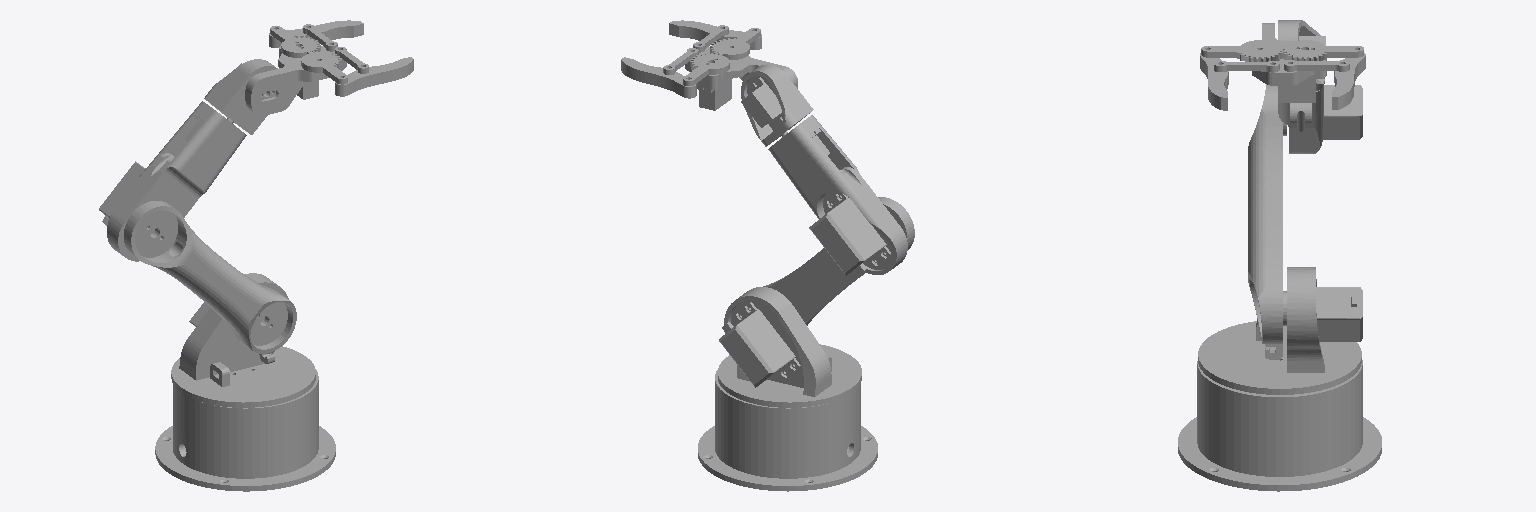
URDF robot description (robot_arm):
<?xml version="1.0" ?>
<!-- =================================================================================== -->
<!-- |    This document was autogenerated by xacro from robot_arm.xacro                | -->
<!-- |    EDITING THIS FILE BY HAND IS NOT RECOMMENDED                                 | -->
<!-- =================================================================================== -->
<robot name="robot_arm">
  <material name="silver">
    <color rgba="0.700 0.700 0.700 1.000"/>
  </material>
  <transmission name="pitch_tran">
    <type>transmission_interface/SimpleTransmission</type>
    <joint name="pitch">
      <hardwareInterface>hardware_interface/EffortJointInterface</hardwareInterface>
    </joint>
    <actuator name="pitch_actr">
      <hardwareInterface>hardware_interface/EffortJointInterface</hardwareInterface>
      <mechanicalReduction>1</mechanicalReduction>
    </actuator>
  </transmission>
  <transmission name="roll_tran">
    <type>transmission_interface/SimpleTransmission</type>
    <joint name="roll">
      <hardwareInterface>hardware_interface/EffortJointInterface</hardwareInterface>
    </joint>
    <actuator name="roll_actr">
      <hardwareInterface>hardware_interface/EffortJointInterface</hardwareInterface>
      <mechanicalReduction>1</mechanicalReduction>
    </actuator>
  </transmission>
  <transmission name="elbow_tran">
    <type>transmission_interface/SimpleTransmission</type>
    <joint name="elbow">
      <hardwareInterface>hardware_interface/EffortJointInterface</hardwareInterface>
    </joint>
    <actuator name="elbow_actr">
      <hardwareInterface>hardware_interface/EffortJointInterface</hardwareInterface>
      <mechanicalReduction>1</mechanicalReduction>
    </actuator>
  </transmission>
  <transmission name="shoulder_tran">
    <type>transmission_interface/SimpleTransmission</type>
    <joint name="shoulder">
      <hardwareInterface>hardware_interface/EffortJointInterface</hardwareInterface>
    </joint>
    <actuator name="shoulder_actr">
      <hardwareInterface>hardware_interface/EffortJointInterface</hardwareInterface>
      <mechanicalReduction>1</mechanicalReduction>
    </actuator>
  </transmission>
  <transmission name="base_tran">
    <type>transmission_interface/SimpleTransmission</type>
    <joint name="base">
      <hardwareInterface>hardware_interface/EffortJointInterface</hardwareInterface>
    </joint>
    <actuator name="base_actr">
      <hardwareInterface>hardware_interface/EffortJointInterface</hardwareInterface>
      <mechanicalReduction>1</mechanicalReduction>
    </actuator>
  </transmission>
  <transmission name="finger_gear_left_tran">
    <type>transmission_interface/SimpleTransmission</type>
    <joint name="finger_gear_left">
      <hardwareInterface>hardware_interface/EffortJointInterface</hardwareInterface>
    </joint>
    <actuator name="finger_gear_left_actr">
      <hardwareInterface>hardware_interface/EffortJointInterface</hardwareInterface>
      <mechanicalReduction>1</mechanicalReduction>
    </actuator>
  </transmission>
  <transmission name="finger_gear_right_tran">
    <type>transmission_interface/SimpleTransmission</type>
    <joint name="finger_gear_right">
      <hardwareInterface>hardware_interface/EffortJointInterface</hardwareInterface>
    </joint>
    <actuator name="finger_gear_right_actr">
      <hardwareInterface>hardware_interface/EffortJointInterface</hardwareInterface>
      <mechanicalReduction>1</mechanicalReduction>
    </actuator>
  </transmission>
  <transmission name="l2f_left_tran">
    <type>transmission_interface/SimpleTransmission</type>
    <joint name="l2f_left">
      <hardwareInterface>hardware_interface/EffortJointInterface</hardwareInterface>
    </joint>
    <actuator name="l2f_left_actr">
      <hardwareInterface>hardware_interface/EffortJointInterface</hardwareInterface>
      <mechanicalReduction>1</mechanicalReduction>
    </actuator>
  </transmission>
  <transmission name="f2g_left_tran">
    <type>transmission_interface/SimpleTransmission</type>
    <joint name="f2g_left">
      <hardwareInterface>hardware_interface/EffortJointInterface</hardwareInterface>
    </joint>
    <actuator name="f2g_left_actr">
      <hardwareInterface>hardware_interface/EffortJointInterface</hardwareInterface>
      <mechanicalReduction>1</mechanicalReduction>
    </actuator>
  </transmission>
  <transmission name="f2l_right_tran">
    <type>transmission_interface/SimpleTransmission</type>
    <joint name="f2l_right">
      <hardwareInterface>hardware_interface/EffortJointInterface</hardwareInterface>
    </joint>
    <actuator name="f2l_right_actr">
      <hardwareInterface>hardware_interface/EffortJointInterface</hardwareInterface>
      <mechanicalReduction>1</mechanicalReduction>
    </actuator>
  </transmission>
  <transmission name="f2g_right_tran">
    <type>transmission_interface/SimpleTransmission</type>
    <joint name="f2g_right">
      <hardwareInterface>hardware_interface/EffortJointInterface</hardwareInterface>
    </joint>
    <actuator name="f2g_right_actr">
      <hardwareInterface>hardware_interface/EffortJointInterface</hardwareInterface>
      <mechanicalReduction>1</mechanicalReduction>
    </actuator>
  </transmission>
  <gazebo>
    <plugin filename="libgazebo_ros_control.so" name="control"/>
  </gazebo>
  <gazebo reference="base_link">
    <material>Gazebo/Silver</material>
    <mu1>0.2</mu1>
    <mu2>0.2</mu2>
    <selfCollide>true</selfCollide>
    <gravity>true</gravity>
  </gazebo>
  <gazebo reference="tool_1">
    <material>Gazebo/Silver</material>
    <mu1>0.2</mu1>
    <mu2>0.2</mu2>
    <selfCollide>true</selfCollide>
  </gazebo>
  <gazebo reference="wrist_1">
    <material>Gazebo/Silver</material>
    <mu1>0.2</mu1>
    <mu2>0.2</mu2>
    <selfCollide>true</selfCollide>
  </gazebo>
  <gazebo reference="lower_arm_1">
    <material>Gazebo/Silver</material>
    <mu1>0.2</mu1>
    <mu2>0.2</mu2>
    <selfCollide>true</selfCollide>
  </gazebo>
  <gazebo reference="upper_arm_1">
    <material>Gazebo/Silver</material>
    <mu1>0.2</mu1>
    <mu2>0.2</mu2>
    <selfCollide>true</selfCollide>
  </gazebo>
  <gazebo reference="waist_1">
    <material>Gazebo/Silver</material>
    <mu1>0.2</mu1>
    <mu2>0.2</mu2>
    <selfCollide>true</selfCollide>
  </gazebo>
  <gazebo reference="gear_l_1">
    <material>Gazebo/Silver</material>
    <mu1>0.2</mu1>
    <mu2>0.2</mu2>
    <selfCollide>true</selfCollide>
  </gazebo>
  <gazebo reference="gear_r_1">
    <material>Gazebo/Silver</material>
    <mu1>0.2</mu1>
    <mu2>0.2</mu2>
    <selfCollide>true</selfCollide>
  </gazebo>
  <gazebo reference="passiv_link_left_1">
    <material>Gazebo/Silver</material>
    <mu1>0.2</mu1>
    <mu2>0.2</mu2>
    <selfCollide>true</selfCollide>
  </gazebo>
  <gazebo reference="finger_l_1">
    <material>Gazebo/Silver</material>
    <mu1>0.2</mu1>
    <mu2>0.2</mu2>
    <selfCollide>true</selfCollide>
  </gazebo>
  <gazebo reference="passive_link_right_1">
    <material>Gazebo/Silver</material>
    <mu1>0.2</mu1>
    <mu2>0.2</mu2>
    <selfCollide>true</selfCollide>
  </gazebo>
  <gazebo reference="finger_r_1">
    <material>Gazebo/Silver</material>
    <mu1>0.2</mu1>
    <mu2>0.2</mu2>
    <selfCollide>true</selfCollide>
  </gazebo>
  <link name="base_link">
    <inertial>
      <origin rpy="0 0 0" xyz="0.0020664042300333053 6.466553198827756e-10 0.02419226403185804"/>
      <mass value="0.16728828356549438"/>
      <inertia ixx="0.000174" ixy="-0.0" ixz="-7e-06" iyy="0.000194" iyz="0.0" izz="0.000278"/>
    </inertial>
    <visual>
      <origin rpy="0 0 0" xyz="0 0 0"/>
      <geometry>
        <mesh filename="package://robot_arm_description/meshes/base_link.stl" scale="0.001 0.001 0.001"/>
      </geometry>
      <material name="silver"/>
    </visual>
    <collision>
      <origin rpy="0 0 0" xyz="0 0 0"/>
      <geometry>
        <mesh filename="package://robot_arm_description/meshes/base_link.stl" scale="0.001 0.001 0.001"/>
      </geometry>
    </collision>
  </link>
  <link name="tool_1">
    <inertial>
      <origin rpy="0 0 0" xyz="0.029681331473707738 0.005034683436302485 0.003678054770134831"/>
      <mass value="0.03200159540129433"/>
      <inertia ixx="6e-06" ixy="-3e-06" ixz="-1e-06" iyy="1.3e-05" iyz="0.0" izz="1.5e-05"/>
    </inertial>
    <visual>
      <origin rpy="0 0 0" xyz="-0.012177 0.00285 -0.266299"/>
      <geometry>
        <mesh filename="package://robot_arm_description/meshes/tool_1.stl" scale="0.001 0.001 0.001"/>
      </geometry>
      <material name="silver"/>
    </visual>
    <collision>
      <origin rpy="0 0 0" xyz="-0.012177 0.00285 -0.266299"/>
      <geometry>
        <mesh filename="package://robot_arm_description/meshes/tool_1.stl" scale="0.001 0.001 0.001"/>
      </geometry>
    </collision>
  </link>
  <link name="wrist_1">
    <inertial>
      <origin rpy="0 0 0" xyz="0.010246135859655846 -0.003065519867974221 0.017362349593195214"/>
      <mass value="0.03047143481755528"/>
      <inertia ixx="5e-06" ixy="0.0" ixz="-1e-06" iyy="7e-06" iyz="0.0" izz="5e-06"/>
    </inertial>
    <visual>
      <origin rpy="0 0 0" xyz="0.004157 -0.0125 -0.242894"/>
      <geometry>
        <mesh filename="package://robot_arm_description/meshes/wrist_1.stl" scale="0.001 0.001 0.001"/>
      </geometry>
      <material name="silver"/>
    </visual>
    <collision>
      <origin rpy="0 0 0" xyz="0.004157 -0.0125 -0.242894"/>
      <geometry>
        <mesh filename="package://robot_arm_description/meshes/wrist_1.stl" scale="0.001 0.001 0.001"/>
      </geometry>
    </collision>
  </link>
  <link name="lower_arm_1">
    <inertial>
      <origin rpy="0 0 0" xyz="0.021975491384407124 0.016711488741899205 0.021952022901357227"/>
      <mass value="0.11769779065313278"/>
      <inertia ixx="8e-05" ixy="1e-05" ixz="-5.2e-05" iyy="0.000125" iyz="1e-05" izz="8e-05"/>
    </inertial>
    <visual>
      <origin rpy="0 0 0" xyz="0.072534 -0.0018 -0.181729"/>
      <geometry>
        <mesh filename="package://robot_arm_description/meshes/lower_arm_1.stl" scale="0.001 0.001 0.001"/>
      </geometry>
      <material name="silver"/>
    </visual>
    <collision>
      <origin rpy="0 0 0" xyz="0.072534 -0.0018 -0.181729"/>
      <geometry>
        <mesh filename="package://robot_arm_description/meshes/lower_arm_1.stl" scale="0.001 0.001 0.001"/>
      </geometry>
    </collision>
  </link>
  <link name="upper_arm_1">
    <inertial>
      <origin rpy="0 0 0" xyz="-0.041522617129985125 -0.007768202679353794 0.04133826671607861"/>
      <mass value="0.5054466041808731"/>
      <inertia ixx="0.000474" ixy="1e-06" ixz="0.000396" iyy="0.000903" iyz="-1e-06" izz="0.000463"/>
    </inertial>
    <visual>
      <origin rpy="0 0 0" xyz="-0.012319 -0.0018 -0.096876"/>
      <geometry>
        <mesh filename="package://robot_arm_description/meshes/upper_arm_1.stl" scale="0.001 0.001 0.001"/>
      </geometry>
      <material name="silver"/>
    </visual>
    <collision>
      <origin rpy="0 0 0" xyz="-0.012319 -0.0018 -0.096876"/>
      <geometry>
        <mesh filename="package://robot_arm_description/meshes/upper_arm_1.stl" scale="0.001 0.001 0.001"/>
      </geometry>
    </collision>
  </link>
  <link name="waist_1">
    <inertial>
      <origin rpy="0 0 0" xyz="0.0032447569034795187 0.013877745202582331 0.022630817273136372"/>
      <mass value="0.13143588308849458"/>
      <inertia ixx="9e-05" ixy="-4e-06" ixz="-1.3e-05" iyy="9.1e-05" iyz="-1.7e-05" izz="9.6e-05"/>
    </inertial>
    <visual>
      <origin rpy="0 0 0" xyz="0.0016 -0.0 -0.0566"/>
      <geometry>
        <mesh filename="package://robot_arm_description/meshes/waist_1.stl" scale="0.001 0.001 0.001"/>
      </geometry>
      <material name="silver"/>
    </visual>
    <collision>
      <origin rpy="0 0 0" xyz="0.0016 -0.0 -0.0566"/>
      <geometry>
        <mesh filename="package://robot_arm_description/meshes/waist_1.stl" scale="0.001 0.001 0.001"/>
      </geometry>
    </collision>
  </link>
  <link name="gear_l_1">
    <inertial>
      <origin rpy="0 0 0" xyz="0.0005899134384872579 0.005667053218810088 0.0020002649471745904"/>
      <mass value="0.0033099589734535495"/>
      <inertia ixx="0.0" ixy="0.0" ixz="-0.0" iyy="0.0" iyz="-0.0" izz="1e-06"/>
    </inertial>
    <visual>
      <origin rpy="0 0 0" xyz="-0.050177 -0.01505 -0.280299"/>
      <geometry>
        <mesh filename="package://robot_arm_description/meshes/gear_l_1.stl" scale="0.001 0.001 0.001"/>
      </geometry>
      <material name="silver"/>
    </visual>
    <collision>
      <origin rpy="0 0 0" xyz="-0.050177 -0.01505 -0.280299"/>
      <geometry>
        <mesh filename="package://robot_arm_description/meshes/gear_l_1.stl" scale="0.001 0.001 0.001"/>
      </geometry>
    </collision>
  </link>
  <link name="gear_r_1">
    <inertial>
      <origin rpy="0 0 0" xyz="0.0005979538243359381 -0.005579192111270146 0.002000264947174646"/>
      <mass value="0.0034076811371724575"/>
      <inertia ixx="0.0" ixy="-0.0" ixz="-0.0" iyy="0.0" iyz="0.0" izz="1e-06"/>
    </inertial>
    <visual>
      <origin rpy="0 0 0" xyz="-0.050177 0.01185 -0.280299"/>
      <geometry>
        <mesh filename="package://robot_arm_description/meshes/gear_r_1.stl" scale="0.001 0.001 0.001"/>
      </geometry>
      <material name="silver"/>
    </visual>
    <collision>
      <origin rpy="0 0 0" xyz="-0.050177 0.01185 -0.280299"/>
      <geometry>
        <mesh filename="package://robot_arm_description/meshes/gear_r_1.stl" scale="0.001 0.001 0.001"/>
      </geometry>
    </collision>
  </link>
  <link name="passiv_link_left_1">
    <inertial>
      <origin rpy="0 0 0" xyz="-7.344014011954891e-05 -0.015500139171575316 0.0020002649471748124"/>
      <mass value="0.0010304035130082416"/>
      <inertia ixx="0.0" ixy="-0.0" ixz="-0.0" iyy="0.0" iyz="0.0" izz="0.0"/>
    </inertial>
    <visual>
      <origin rpy="0 0 0" xyz="-0.070326 -0.037154 -0.280299"/>
      <geometry>
        <mesh filename="package://robot_arm_description/meshes/passiv_link_left_1.stl" scale="0.001 0.001 0.001"/>
      </geometry>
      <material name="silver"/>
    </visual>
    <collision>
      <origin rpy="0 0 0" xyz="-0.070326 -0.037154 -0.280299"/>
      <geometry>
        <mesh filename="package://robot_arm_description/meshes/passiv_link_left_1.stl" scale="0.001 0.001 0.001"/>
      </geometry>
    </collision>
  </link>
  <link name="finger_l_1">
    <inertial>
      <origin rpy="0 0 0" xyz="0.0264996913257496 -0.006416941777612359 -0.00424973505282511"/>
      <mass value="0.006962678719455662"/>
      <inertia ixx="0.0" ixy="0.0" ixz="0.0" iyy="2e-06" iyz="0.0" izz="2e-06"/>
    </inertial>
    <visual>
      <origin rpy="0 0 0" xyz="-0.050097 -0.0458 -0.280299"/>
      <geometry>
        <mesh filename="package://robot_arm_description/meshes/finger_l_1.stl" scale="0.001 0.001 0.001"/>
      </geometry>
      <material name="silver"/>
    </visual>
    <collision>
      <origin rpy="0 0 0" xyz="-0.050097 -0.0458 -0.280299"/>
      <geometry>
        <mesh filename="package://robot_arm_description/meshes/finger_l_1.stl" scale="0.001 0.001 0.001"/>
      </geometry>
    </collision>
  </link>
  <link name="passive_link_right_1">
    <inertial>
      <origin rpy="0 0 0" xyz="7.392196295702425e-05 0.015499801346418072 0.002000264947174535"/>
      <mass value="0.0010304035130082416"/>
      <inertia ixx="0.0" ixy="-0.0" ixz="-0.0" iyy="0.0" iyz="0.0" izz="0.0"/>
    </inertial>
    <visual>
      <origin rpy="0 0 0" xyz="-0.070876 0.03521 -0.280299"/>
      <geometry>
        <mesh filename="package://robot_arm_description/meshes/passive_link_right_1.stl" scale="0.001 0.001 0.001"/>
      </geometry>
      <material name="silver"/>
    </visual>
    <collision>
      <origin rpy="0 0 0" xyz="-0.070876 0.03521 -0.280299"/>
      <geometry>
        <mesh filename="package://robot_arm_description/meshes/passive_link_right_1.stl" scale="0.001 0.001 0.001"/>
      </geometry>
    </collision>
  </link>
  <link name="finger_r_1">
    <inertial>
      <origin rpy="0 0 0" xyz="0.02684411509474962 0.00478045272417623 -0.0042497350528256095"/>
      <mass value="0.0069626787194557215"/>
      <inertia ixx="0.0" ixy="-0.0" ixz="-0.0" iyy="2e-06" iyz="0.0" izz="2e-06"/>
    </inertial>
    <visual>
      <origin rpy="0 0 0" xyz="-0.050154 0.0426 -0.280299"/>
      <geometry>
        <mesh filename="package://robot_arm_description/meshes/finger_r_1.stl" scale="0.001 0.001 0.001"/>
      </geometry>
      <material name="silver"/>
    </visual>
    <collision>
      <origin rpy="0 0 0" xyz="-0.050154 0.0426 -0.280299"/>
      <geometry>
        <mesh filename="package://robot_arm_description/meshes/finger_r_1.stl" scale="0.001 0.001 0.001"/>
      </geometry>
    </collision>
  </link>

  <link name="end_point">

  </link>

  <joint name="virtual" type="fixed">
    <origin rpy="0 0 0" xyz="0.063 0.004 0.0097"/>
    <parent link="tool_1"/>
    <child link="end_point"/>
    <axis xyz="0.0 -1.0 -0.0"/>
  </joint>

  <joint name="pitch" type="continuous">
    <origin rpy="0 0 0" xyz="0.016334 -0.01535 0.023405"/>
    <parent link="wrist_1"/>
    <child link="tool_1"/>
    <axis xyz="0.0 -1.0 -0.0"/>
  </joint>
  <joint name="roll" type="continuous">
    <origin rpy="0 0 0" xyz="0.068377 0.0107 0.061165"/>
    <parent link="lower_arm_1"/>
    <child link="wrist_1"/>
    <axis xyz="0.707107 -0.0 0.707107"/>
  </joint>
  <joint name="elbow" type="continuous">
    <origin rpy="0 0 0" xyz="-0.084853 0.0 0.084853"/>
    <parent link="upper_arm_1"/>
    <child link="lower_arm_1"/>
    <axis xyz="-0.0 1.0 0.0"/>
  </joint>
  <joint name="shoulder" type="continuous">
    <origin rpy="0 0 0" xyz="0.013919 0.0018 0.040276"/>
    <parent link="waist_1"/>
    <child link="upper_arm_1"/>
    <axis xyz="-0.0 -1.0 -0.0"/>
  </joint>
  <joint name="base" type="continuous">
    <origin rpy="0 0 0" xyz="-0.0016 0.0 0.0566"/>
    <parent link="base_link"/>
    <child link="waist_1"/>
    <axis xyz="0.0 0.0 1.0"/>
  </joint>
  <joint name="finger_gear_left" type="revolute">
    <origin rpy="0 0 0" xyz="0.038 0.0179 0.014"/>
    <parent link="tool_1"/>
    <child link="gear_l_1"/>
    <axis xyz="0.0 -0.0 1.0"/>
    <limit effort="100" lower="-1.570796" upper="0.0" velocity="100"/>
  </joint>
  <joint name="finger_gear_right" type="continuous">
    <origin rpy="0 0 0" xyz="0.038 -0.009 0.014"/>
    <parent link="tool_1"/>
    <child link="gear_r_1"/>
    <axis xyz="0.0 -0.0 1.0"/>
  </joint>
  <joint name="l2f_left" type="revolute">
    <origin rpy="0 0 0" xyz="0.020229 -0.008646 0.0"/>
    <parent link="finger_l_1"/>
    <child link="passiv_link_left_1"/>
    <axis xyz="-0.0 0.0 1.0"/>
    <limit effort="100" lower="-1.570796" upper="0.0" velocity="100"/>
  </joint>
  <joint name="f2g_left" type="revolute">
    <origin rpy="0 0 0" xyz="-8e-05 0.03075 0.0"/>
    <parent link="gear_l_1"/>
    <child link="finger_l_1"/>
    <axis xyz="0.0 0.0 1.0"/>
    <limit effort="100" lower="0.0" upper="1.570796" velocity="100"/>
  </joint>
  <joint name="f2l_right" type="revolute">
    <origin rpy="0 0 0" xyz="0.020722 0.00739 0.0"/>
    <parent link="finger_r_1"/>
    <child link="passive_link_right_1"/>
    <axis xyz="-0.0 0.0 -1.0"/>
    <limit effort="100" lower="-1.570796" upper="0.0" velocity="100"/>
  </joint>
  <joint name="f2g_right" type="revolute">
    <origin rpy="0 0 0" xyz="-2.3e-05 -0.03075 0.0"/>
    <parent link="gear_r_1"/>
    <child link="finger_r_1"/>
    <axis xyz="0.0 -0.0 1.0"/>
    <limit effort="100" lower="-1.570796" upper="0.0" velocity="100"/>
  </joint>
</robot>

--- Facts derived from the render (not from the file) ---
3 views of the same robot in one strip: view 1: azimuth 30°, elevation 25°; view 2: azimuth 150°, elevation 25°; view 3: azimuth 270°, elevation 25° (orthographic).
Model robot_arm with 13 links and 12 joints (5 revolute, 6 continuous, 1 fixed), rooted at base_link, posed every joint at zero.
Visible links, largest first — view 1: base_link, upper_arm_1, waist_1, lower_arm_1, tool_1, wrist_1, finger_r_1, finger_l_1, gear_r_1, gear_l_1; view 2: base_link, waist_1, lower_arm_1, upper_arm_1, wrist_1, tool_1, finger_l_1, finger_r_1, gear_l_1, gear_r_1; view 3: base_link, waist_1, upper_arm_1, lower_arm_1, tool_1, gear_r_1, gear_l_1, finger_l_1, finger_r_1, wrist_1, passiv_link_left_1, passive_link_right_1.
Boxes of the visible links, x1,y1,x2,y2 form: base_link: [155, 370, 335, 491]; upper_arm_1: [124, 201, 296, 363]; waist_1: [171, 273, 315, 407]; lower_arm_1: [99, 101, 246, 261]; tool_1: [245, 46, 346, 115]; wrist_1: [204, 59, 277, 134]; finger_r_1: [335, 57, 413, 96]; finger_l_1: [269, 20, 363, 47]; gear_r_1: [301, 51, 347, 84]; gear_l_1: [270, 26, 320, 57]; base_link: [698, 370, 877, 491]; waist_1: [718, 287, 861, 407]; lower_arm_1: [768, 115, 907, 275]; upper_arm_1: [763, 197, 914, 325]; wrist_1: [741, 64, 813, 146]; tool_1: [685, 47, 797, 110]; finger_l_1: [621, 57, 696, 98]; finger_r_1: [669, 20, 761, 49]; gear_l_1: [683, 53, 729, 85]; gear_r_1: [710, 28, 760, 59]; base_link: [1178, 360, 1381, 491]; waist_1: [1198, 267, 1362, 394]; upper_arm_1: [1248, 84, 1282, 359]; lower_arm_1: [1278, 85, 1362, 153]; tool_1: [1252, 23, 1326, 102]; gear_r_1: [1201, 40, 1283, 61]; gear_l_1: [1281, 40, 1363, 60]; finger_l_1: [1332, 53, 1365, 109]; finger_r_1: [1200, 53, 1228, 110]; wrist_1: [1278, 20, 1325, 90]; passiv_link_left_1: [1284, 60, 1349, 71]; passive_link_right_1: [1214, 61, 1279, 72].
Bounding box of the posed robot: 0.206 × 0.1212 × 0.2843 m (x, y, z).
Meshes: 12 distinct files referenced, 12 mesh visuals loaded (12 binary STL).